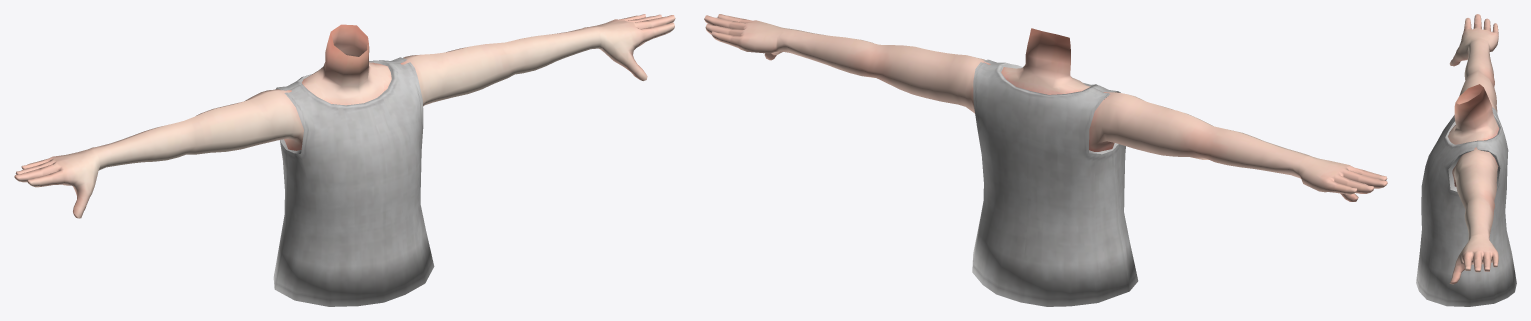
The model's file is tr0750_00_upb01.gltf.
3 renders of one model, left to right at view 1: azimuth 30°, elevation 25°; view 2: azimuth 150°, elevation 25°; view 3: azimuth 270°, elevation 25°, orthographic. The views are drawn at different scales.
Parts seen in each view (by area): view 1: upb01_cloth_mesh_shape:upperbody01, upb01_skin_mesh_shape:upperbody01_skin; view 2: upb01_cloth_mesh_shape:upperbody01, upb01_skin_mesh_shape:upperbody01_skin; view 3: upb01_cloth_mesh_shape:upperbody01, upb01_skin_mesh_shape:upperbody01_skin.
Part boxes in pixels (x1,y1,x2,y2): upb01_cloth_mesh_shape:upperbody01: (273,57,434,306); upb01_skin_mesh_shape:upperbody01_skin: (14,14,675,218); upb01_cloth_mesh_shape:upperbody01: (972,59,1138,306); upb01_skin_mesh_shape:upperbody01_skin: (704,14,1387,201); upb01_cloth_mesh_shape:upperbody01: (1416,107,1516,306); upb01_skin_mesh_shape:upperbody01_skin: (1448,14,1499,284).
Size of what is drawn, in the model's own units: 1.63 by 0.5841 by 0.2727.
2 materials, 2 textured.
